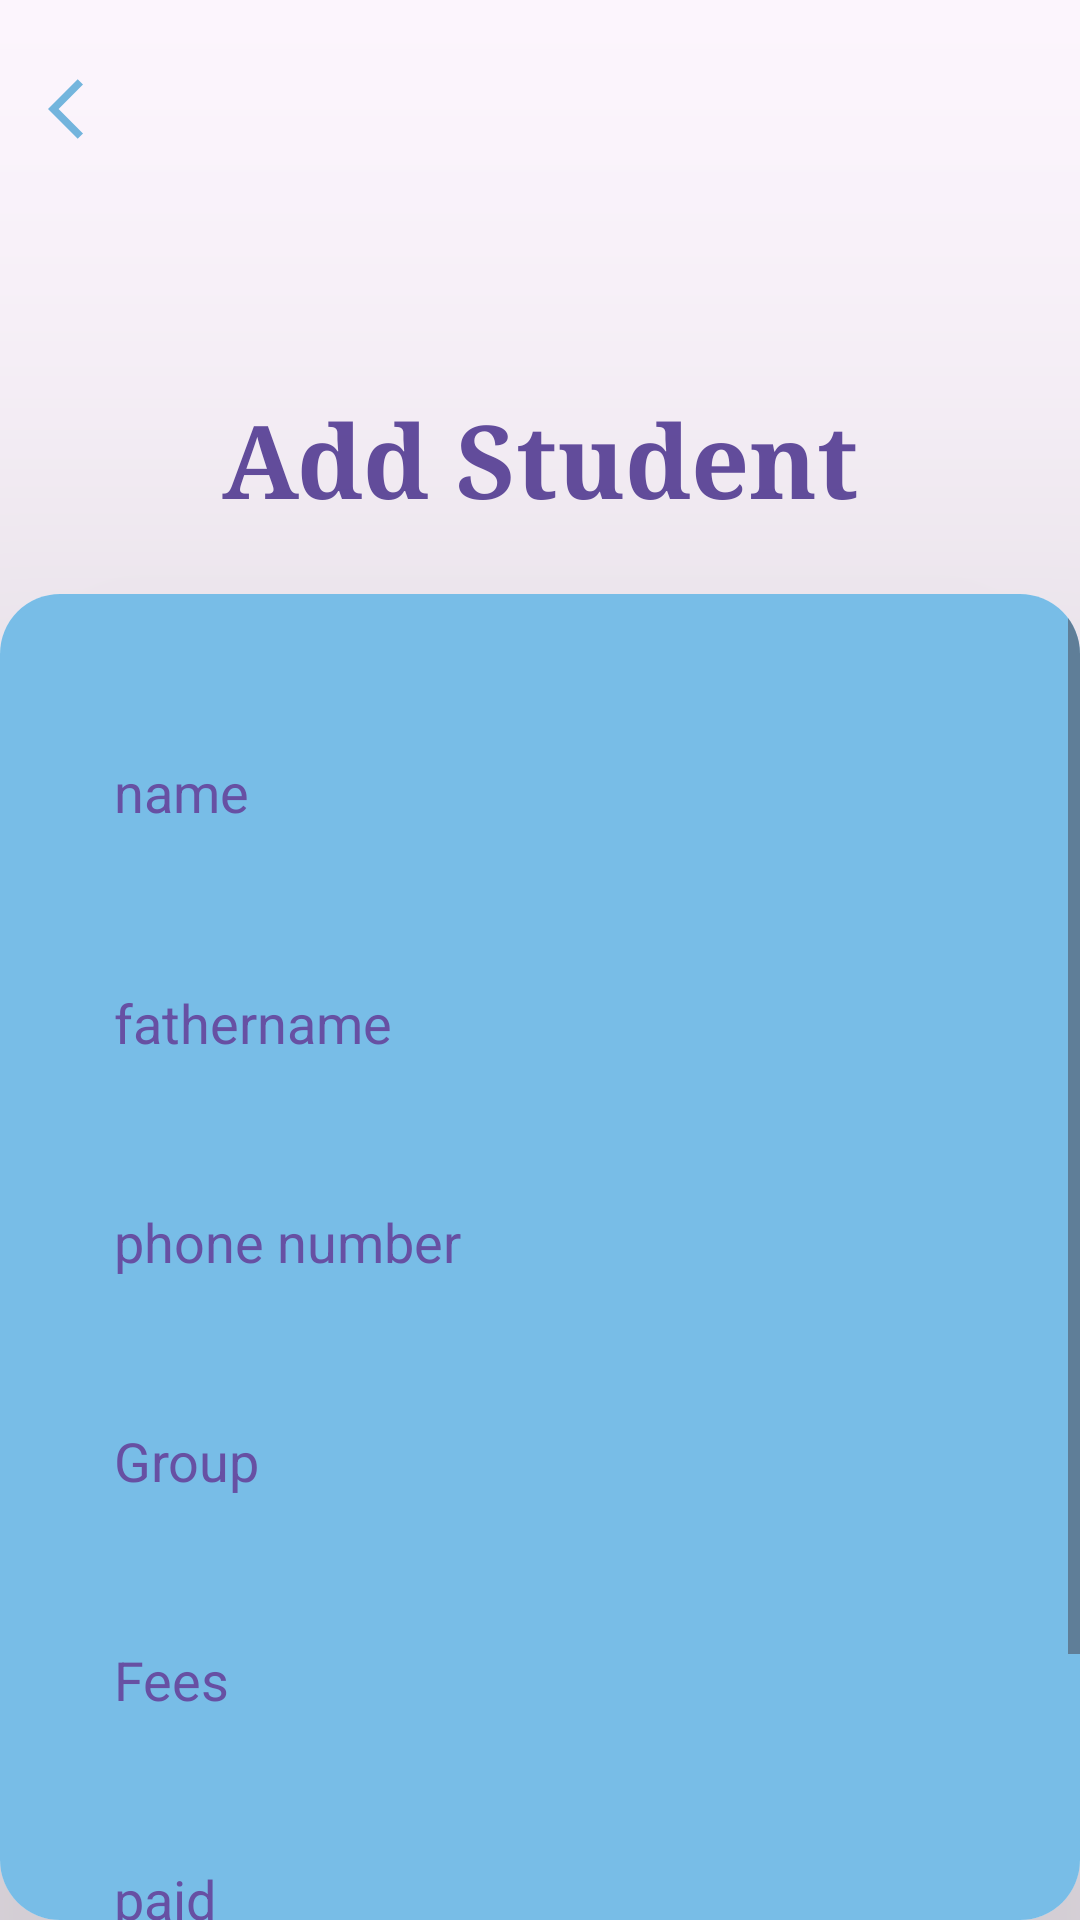

Named icons in this screenshot (1080px×1920px) and their centers, point (x, y):
arrow back: point (65, 109)
